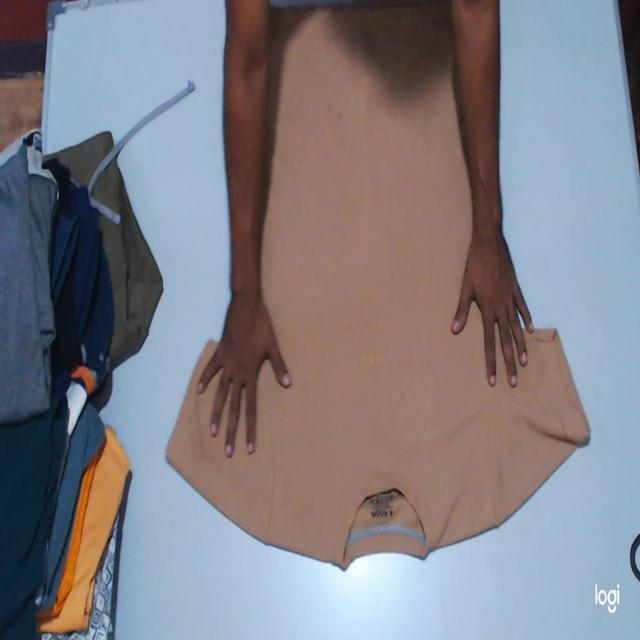new-garment: (167, 6, 589, 565)
